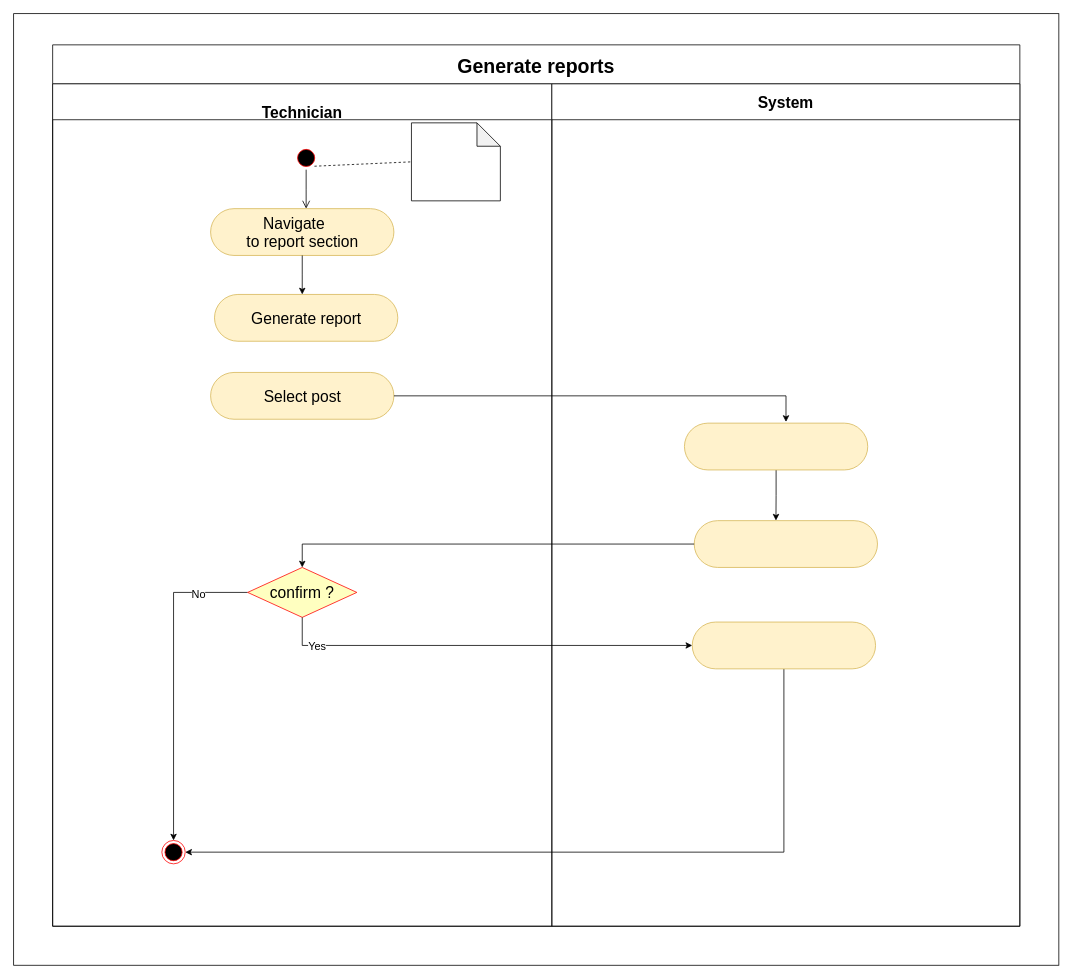
The diagram is 1073 pixels wide and 979 high, and some of its shapes have lost their labels. The shapes that lost their labels are listed below. From the top down, each one's centre as x and y in pixels, then its label:
At [455,161]: "Technician logged in".
At [776,446]: "Display report".
At [785,543]: "Confirmation of the download report".
At [783,645]: "Download report".
